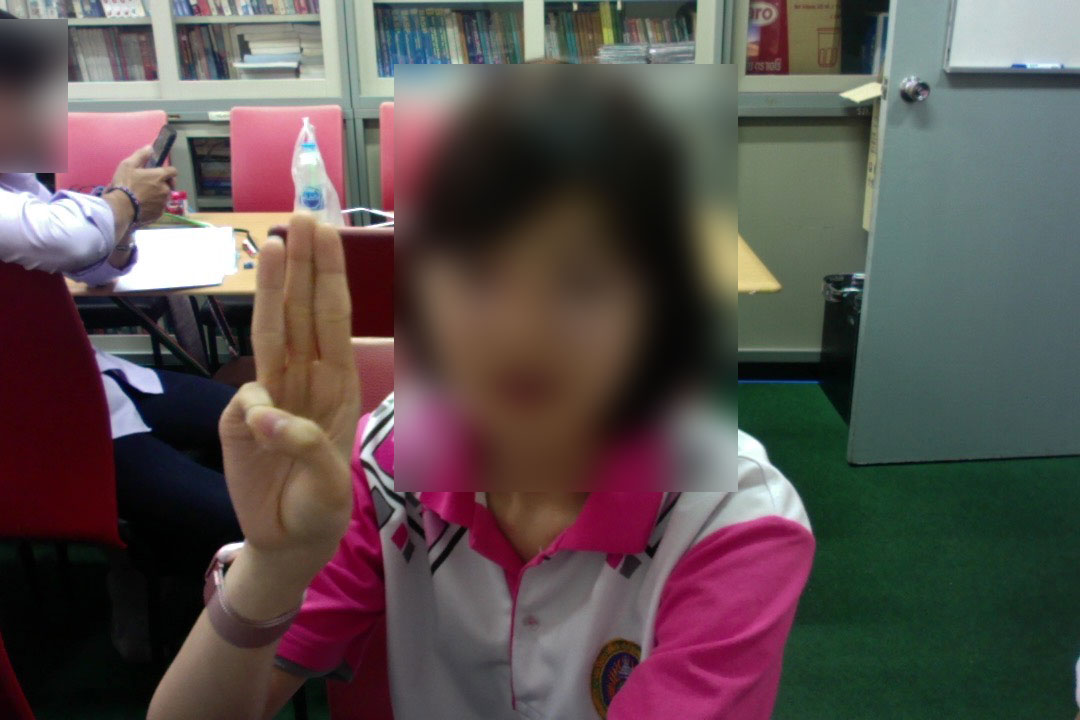wor: (190, 211, 372, 579)
